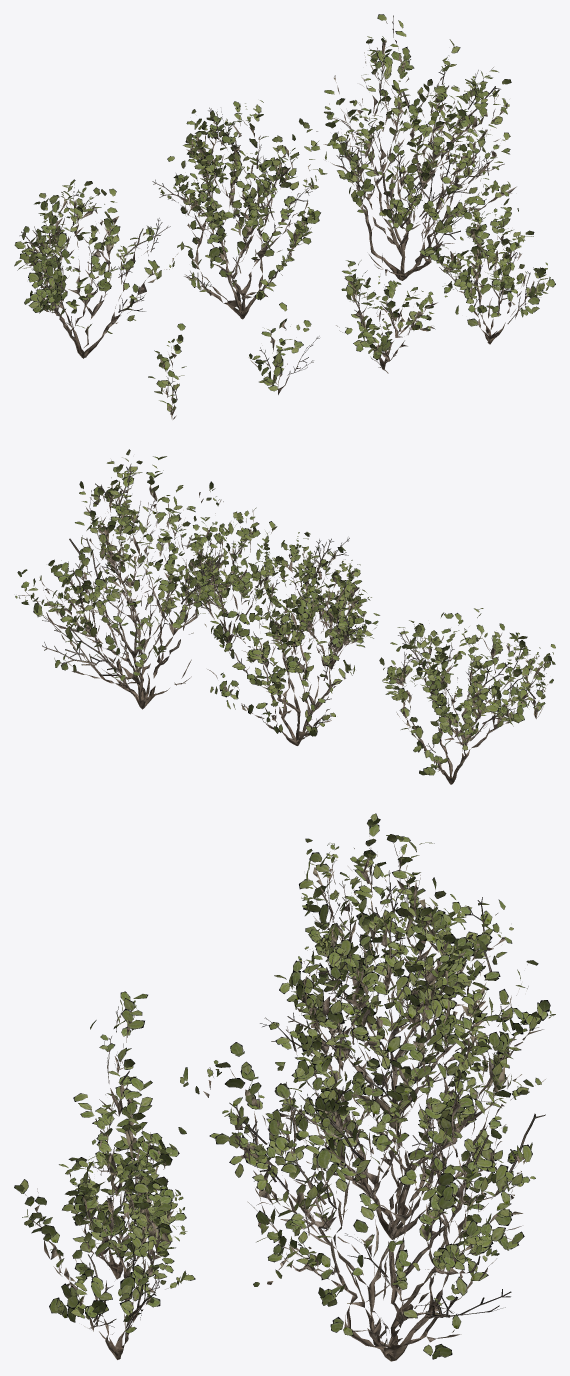
File: bush.glb
3 views of the same model, one above another, from view 1: azimuth 30°, elevation 25°; view 2: azimuth 150°, elevation 25°; view 3: azimuth 270°, elevation 25° (orthographic). The views are drawn at different scales.
Visible parts, largest first — view 1: lod0; view 2: lod0; view 3: lod0.
Boxes of the visible parts, left/top/right/bottom form: lod0: left=14, top=14, right=555, bottom=419; lod0: left=15, top=449, right=555, bottom=784; lod0: left=14, top=813, right=555, bottom=1361.
Size of the model in its own units: 3.75 by 1.88 by 2.28.
Materials: 2 (2 with a texture image).
